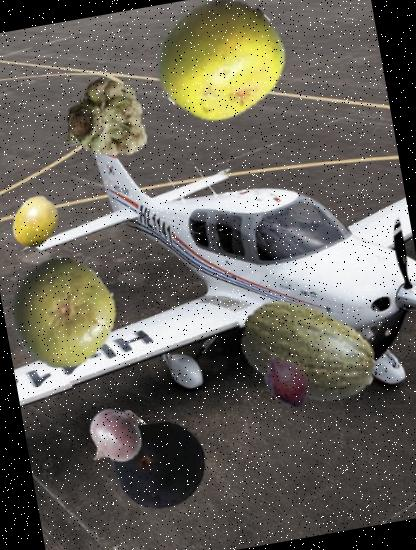Cauliflower: (58, 69, 155, 166)
Grape: (106, 411, 214, 519)
Maracuja: (5, 191, 66, 252)
Melon: (226, 272, 389, 435)
Onion: (79, 401, 150, 472)
Pomelo: (146, 0, 295, 134), (0, 249, 126, 376)
Salak: (252, 346, 320, 414)
